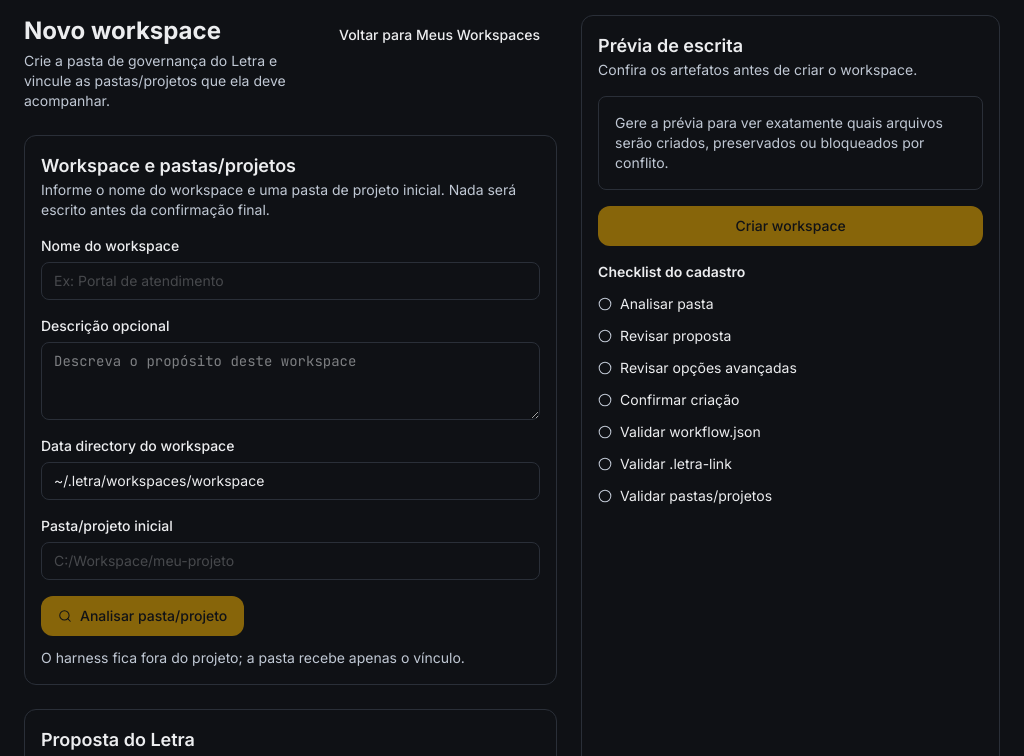
WorkspaceSetupFlow › allows the simplified happy path without selecting adapters
Type "Acme" into the field labelled "Nome do workspace" at (291, 281), box left=41, top=262, right=540, bottom=300
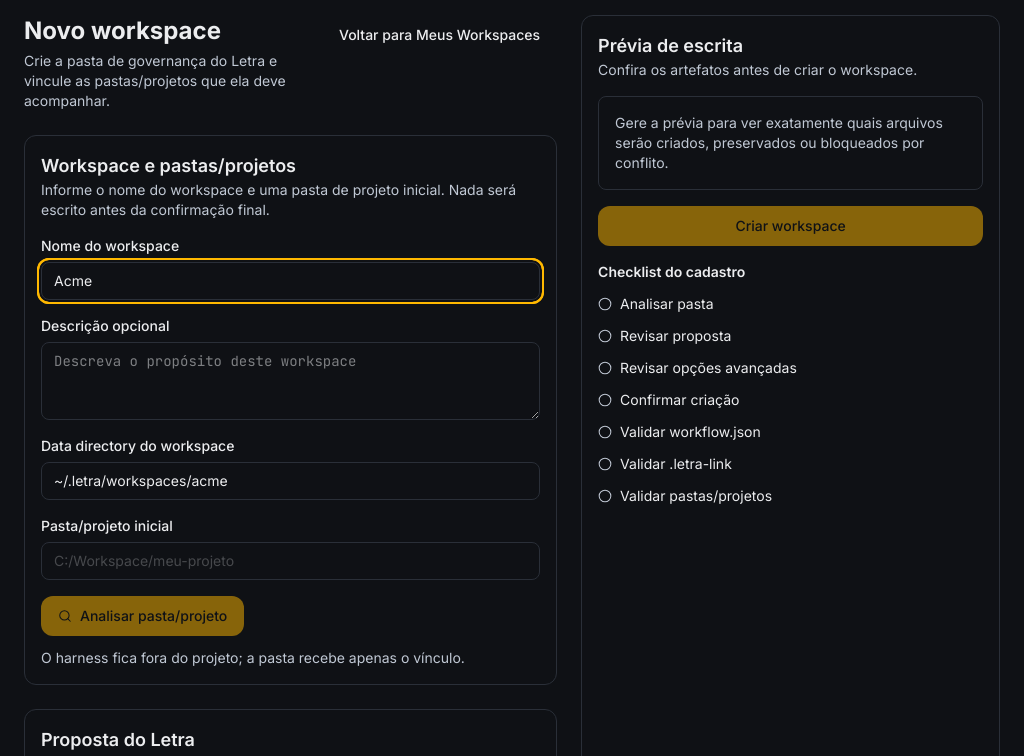
Type "C:/Workspace/acme" into the field labelled "Pasta/projeto inicial" at (291, 561), box left=41, top=542, right=540, bottom=580
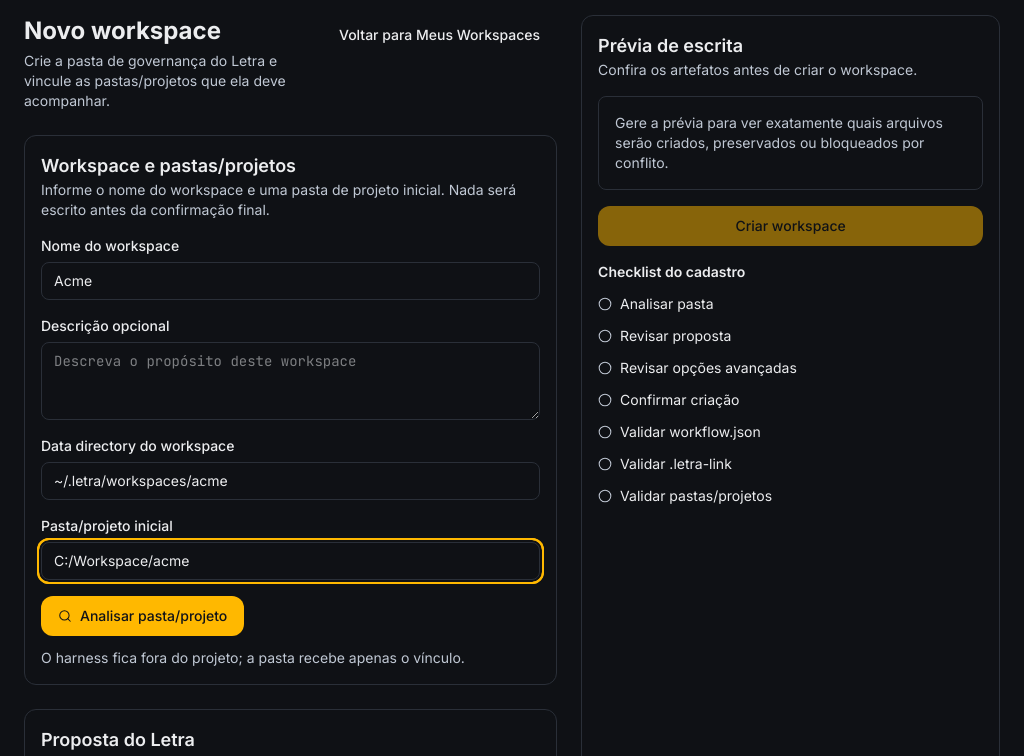
Click the button "Analisar pasta/projeto" at (143, 616), box left=41, top=596, right=244, bottom=636
(page scrolled)
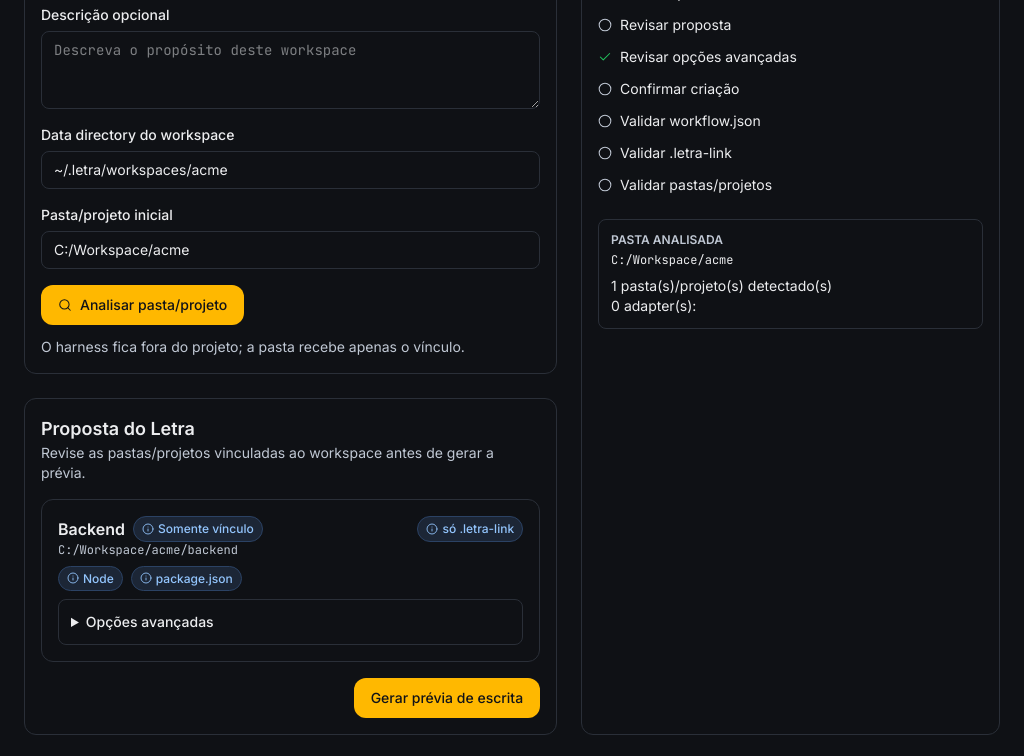
Click the button "Gerar prévia de escrita" at (447, 698), box left=354, top=678, right=540, bottom=718
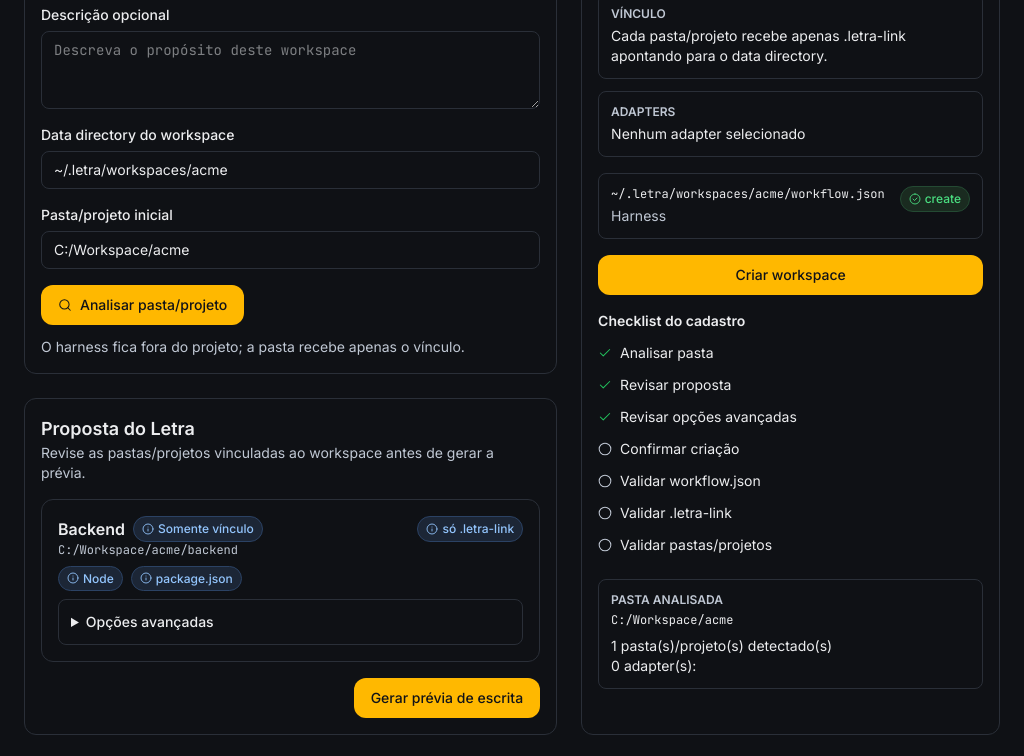
Expected: the text "Nenhum adapter selecionado" is shown, left=611, top=125, right=806, bottom=142
